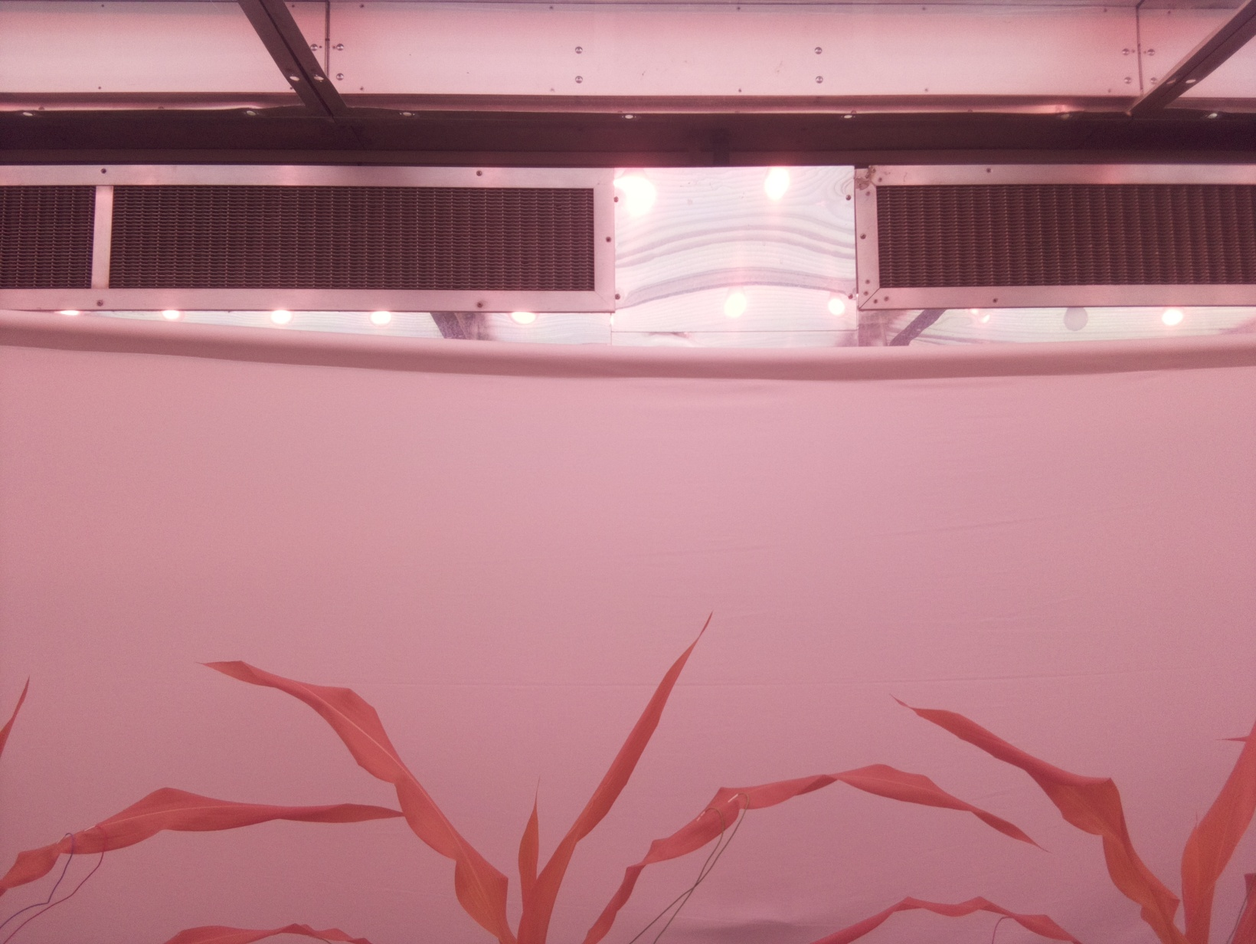maize: (198, 611, 1076, 944), (0, 674, 404, 944), (891, 696, 1256, 944)
